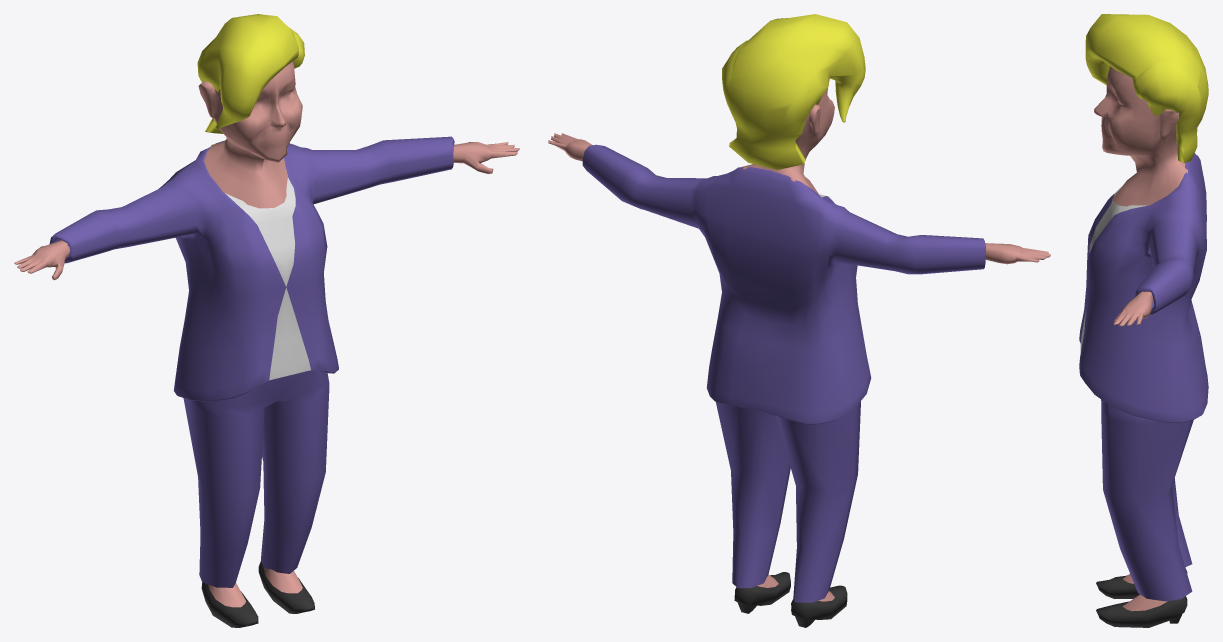
The model's file is hilary_clinton_CHAR.fbx.
3 renders of one model, left to right at view 1: azimuth 30°, elevation 25°; view 2: azimuth 150°, elevation 25°; view 3: azimuth 270°, elevation 25°, orthographic.
Visible parts, largest first — view 1: body, legs, head, hair, feet, hands; view 2: body, legs, hair, feet, head, hands; view 3: body, legs, hair, head, feet, hands.
Part boxes in pixels (<box>): body: <box>49,136,454,401</box>; legs: <box>183,370,329,587</box>; head: <box>198,61,302,208</box>; hair: <box>197,14,304,133</box>; feet: <box>201,561,314,627</box>; hands: <box>14,142,519,280</box>; body: <box>582,144,985,424</box>; legs: <box>716,401,860,602</box>; hair: <box>722,14,865,169</box>; feet: <box>734,572,847,627</box>; head: <box>741,88,834,194</box>; hands: <box>548,133,1050,264</box>; body: <box>1079,153,1208,423</box>; legs: <box>1101,399,1193,601</box>; hair: <box>1085,14,1208,162</box>; head: <box>1094,66,1187,206</box>; feet: <box>1096,568,1187,627</box>; hands: <box>1113,291,1152,326</box>.
Size of the model in its own units: 44.71 by 50.64 by 10.15.
